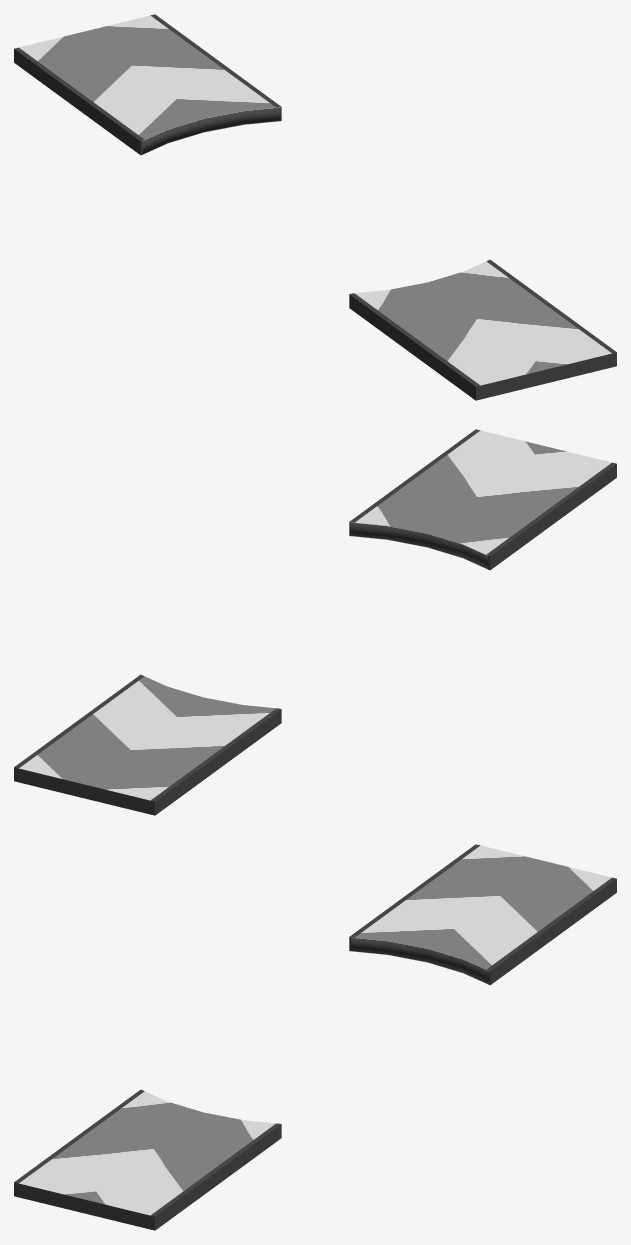
File: platform.link.fbx
The picture shows the model from 3 angles, top to bottom: view 1: azimuth 30°, elevation 25°; view 2: azimuth 150°, elevation 25°; view 3: azimuth 330°, elevation 25°; orthographic projection.
Visible parts, largest first — view 1: circle.link; view 2: circle.link; view 3: circle.link.
Part boxes in pixels (bbox=[...]): circle.link: bbox=[14, 14, 616, 400]; circle.link: bbox=[14, 429, 616, 815]; circle.link: bbox=[14, 844, 616, 1230].
Bounding box in the file's own units: 481 × 45.44 × 2726.
